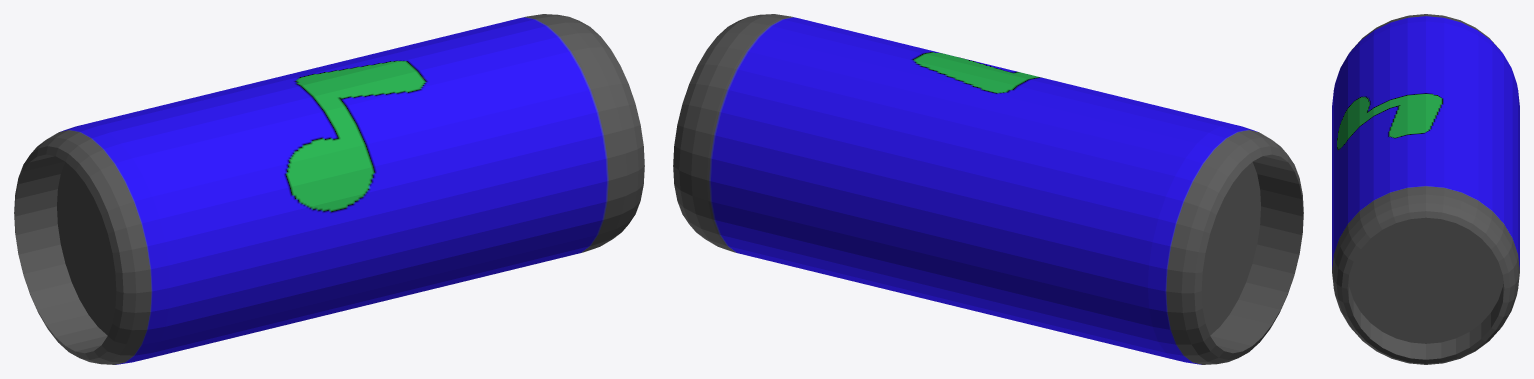
The model's file is jbl.gltf.
3 renders of one model, left to right at view 1: azimuth 30°, elevation 25°; view 2: azimuth 150°, elevation 25°; view 3: azimuth 270°, elevation 25°, orthographic. The views are drawn at different scales.
Parts seen in each view (by area): view 1: Cylinder; view 2: Cylinder; view 3: Cylinder.
Part boxes in pixels (bbox=[...]): Cylinder: bbox=[14, 14, 644, 364]; Cylinder: bbox=[673, 14, 1303, 364]; Cylinder: bbox=[1332, 14, 1519, 364].
Bounding box in the file's own units: 0.5 × 0.2 × 0.2.
1 material, 1 textured.
